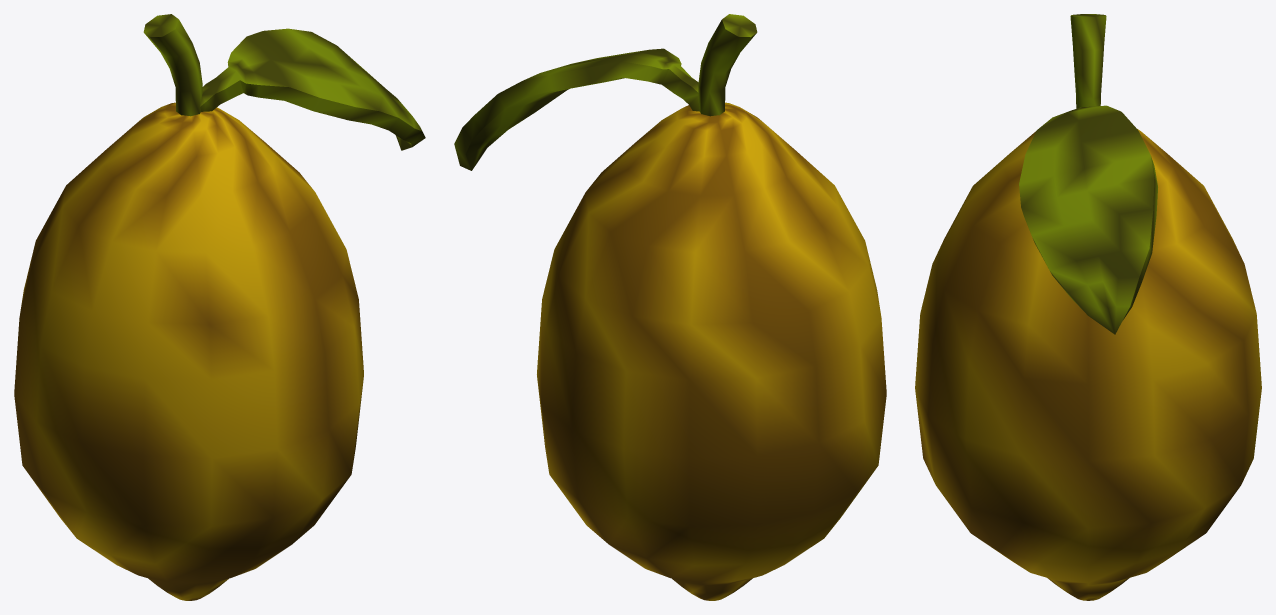
Rendered from Farm_Tree_Product_Lemon_01_Rotten.fbx.
The picture shows the model from 3 angles, left to right: view 1: azimuth 30°, elevation 25°; view 2: azimuth 150°, elevation 25°; view 3: azimuth 270°, elevation 25°; orthographic projection.
Parts seen in each view (by area): view 1: Farm_Tree_Product_Lemon_01_Rotten; view 2: Farm_Tree_Product_Lemon_01_Rotten; view 3: Farm_Tree_Product_Lemon_01_Rotten.
Part boxes in pixels (x1=…): Farm_Tree_Product_Lemon_01_Rotten: x1=14, y1=14, x2=425, y2=600; Farm_Tree_Product_Lemon_01_Rotten: x1=454, y1=14, x2=886, y2=600; Farm_Tree_Product_Lemon_01_Rotten: x1=915, y1=14, x2=1261, y2=600.
Bounding box in the file's own units: 26.17 × 37.51 × 20.46.
